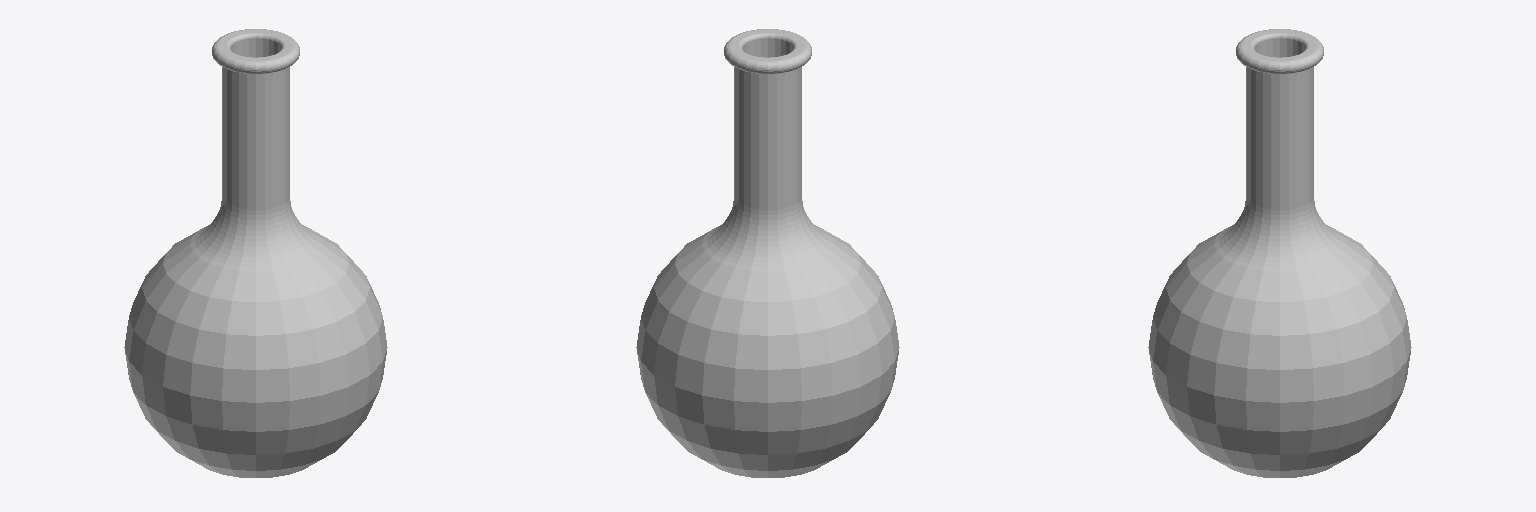
Rendered from Frasco.obj.
The picture shows the model from 3 angles: view 1: azimuth 30°, elevation 25°; view 2: azimuth 150°, elevation 25°; view 3: azimuth 270°, elevation 25°; orthographic projection.
Visible parts, largest first — view 1: Mesh1 Component_3__1_1 Model; view 2: Mesh1 Component_3__1_1 Model; view 3: Mesh1 Component_3__1_1 Model.
Part boxes in pixels (x1,y1,x2,y2): Mesh1 Component_3__1_1 Model: (124,29,387,477); Mesh1 Component_3__1_1 Model: (636,29,899,477); Mesh1 Component_3__1_1 Model: (1148,29,1411,477).
Size of the model in its own units: 0.7493 by 1.32 by 0.7493.